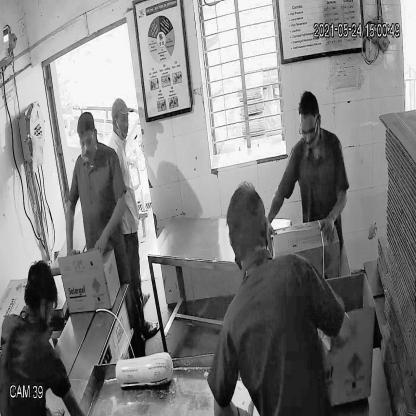goggles: (76, 130, 97, 152)
